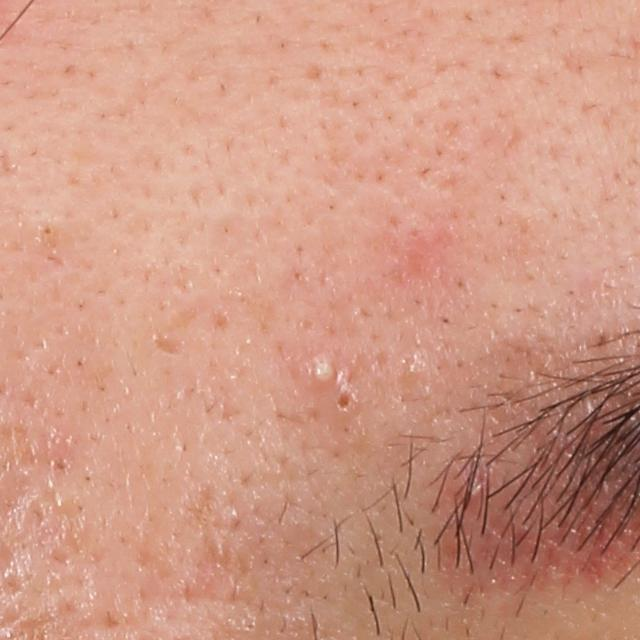atrophic_scar: (157, 484, 260, 634), (152, 333, 187, 357)
comedo: (333, 383, 365, 414), (38, 217, 62, 241)
pustule: (302, 350, 340, 388)
